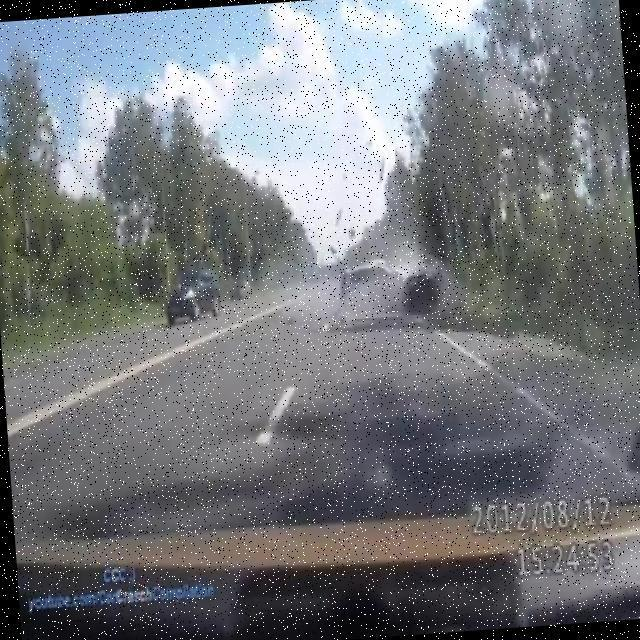accident: (323, 226, 452, 328)
